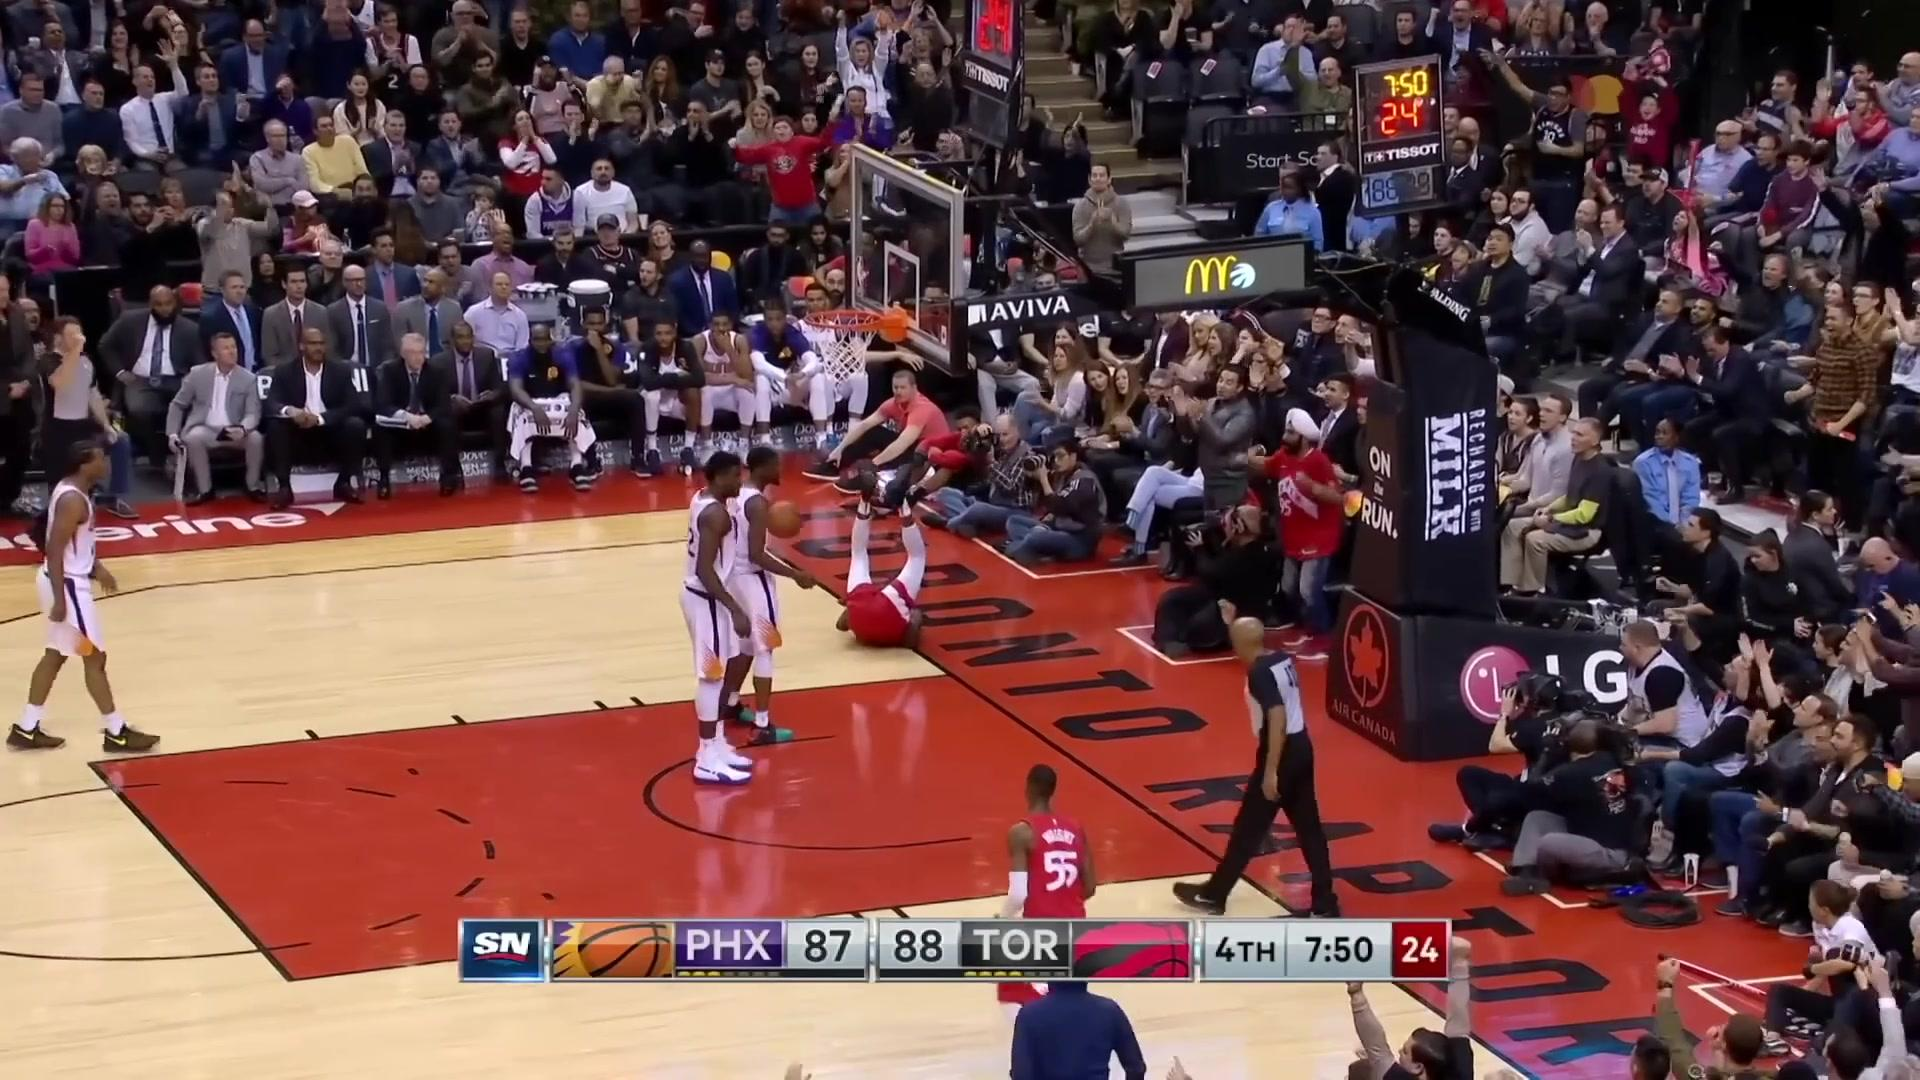foul: (740, 463, 965, 665)
